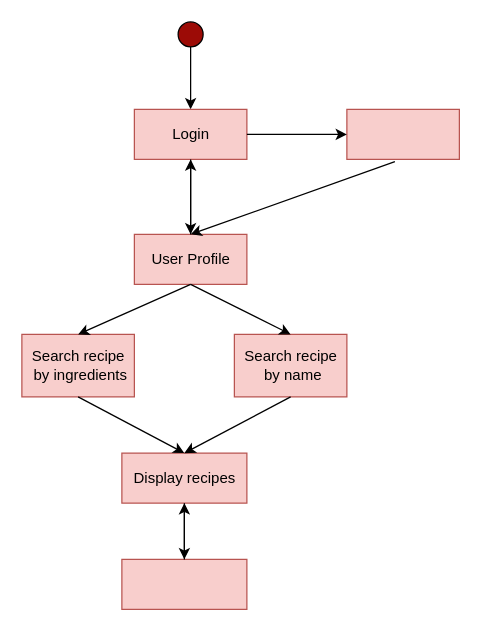
The diagram is 481 pixels wide and 631 high, and some of its shapes have lost their labels. The shapes that lost their labels are listed below. From the top down, each one's box as (x1, y1, x2, y2) in pixels, then its label:
(346, 108, 459, 159): Register
(121, 558, 247, 609): Display a recipe
